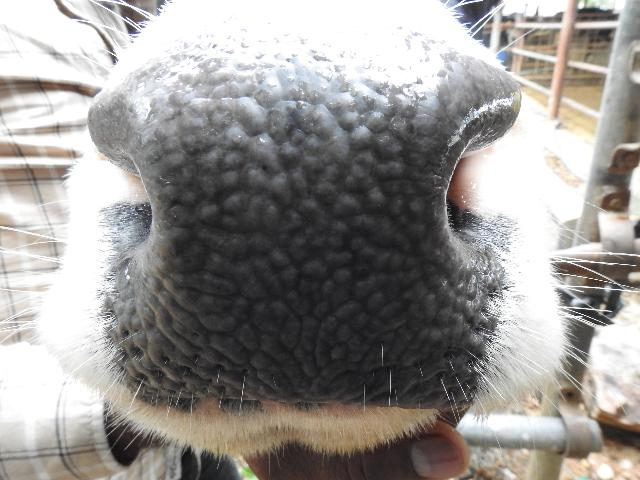Muzzle: (152, 79, 432, 398)
